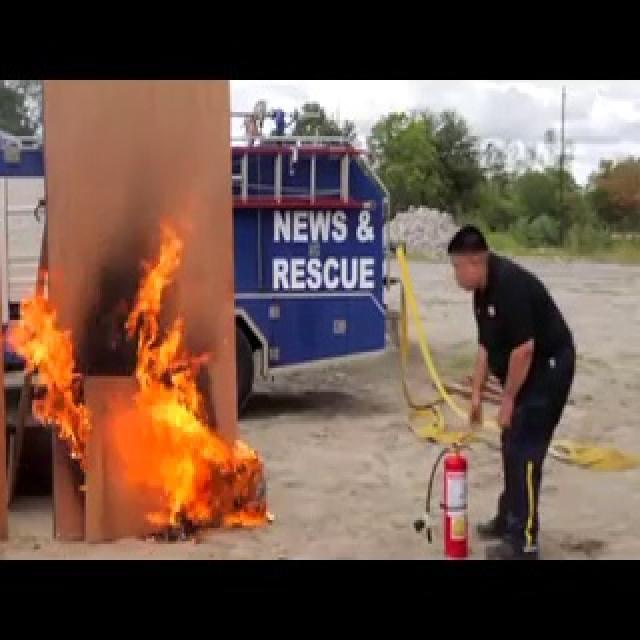Fire: (2, 236, 274, 544)
